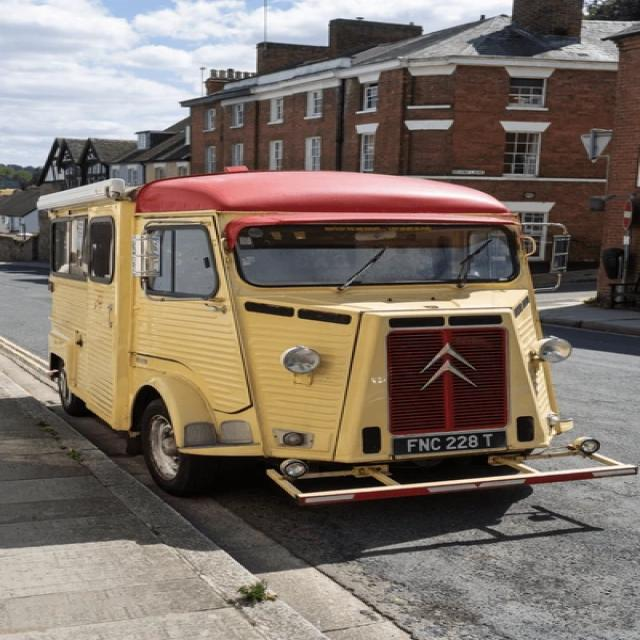citroen: (408, 340, 484, 394)
